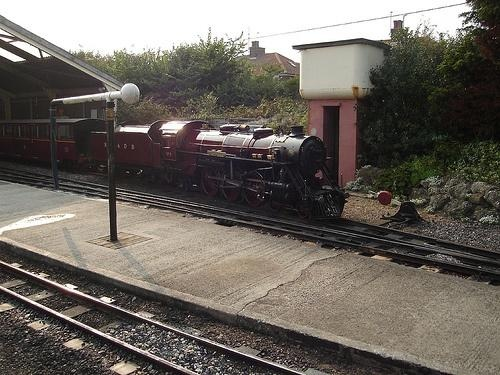train: (1, 116, 349, 223)
